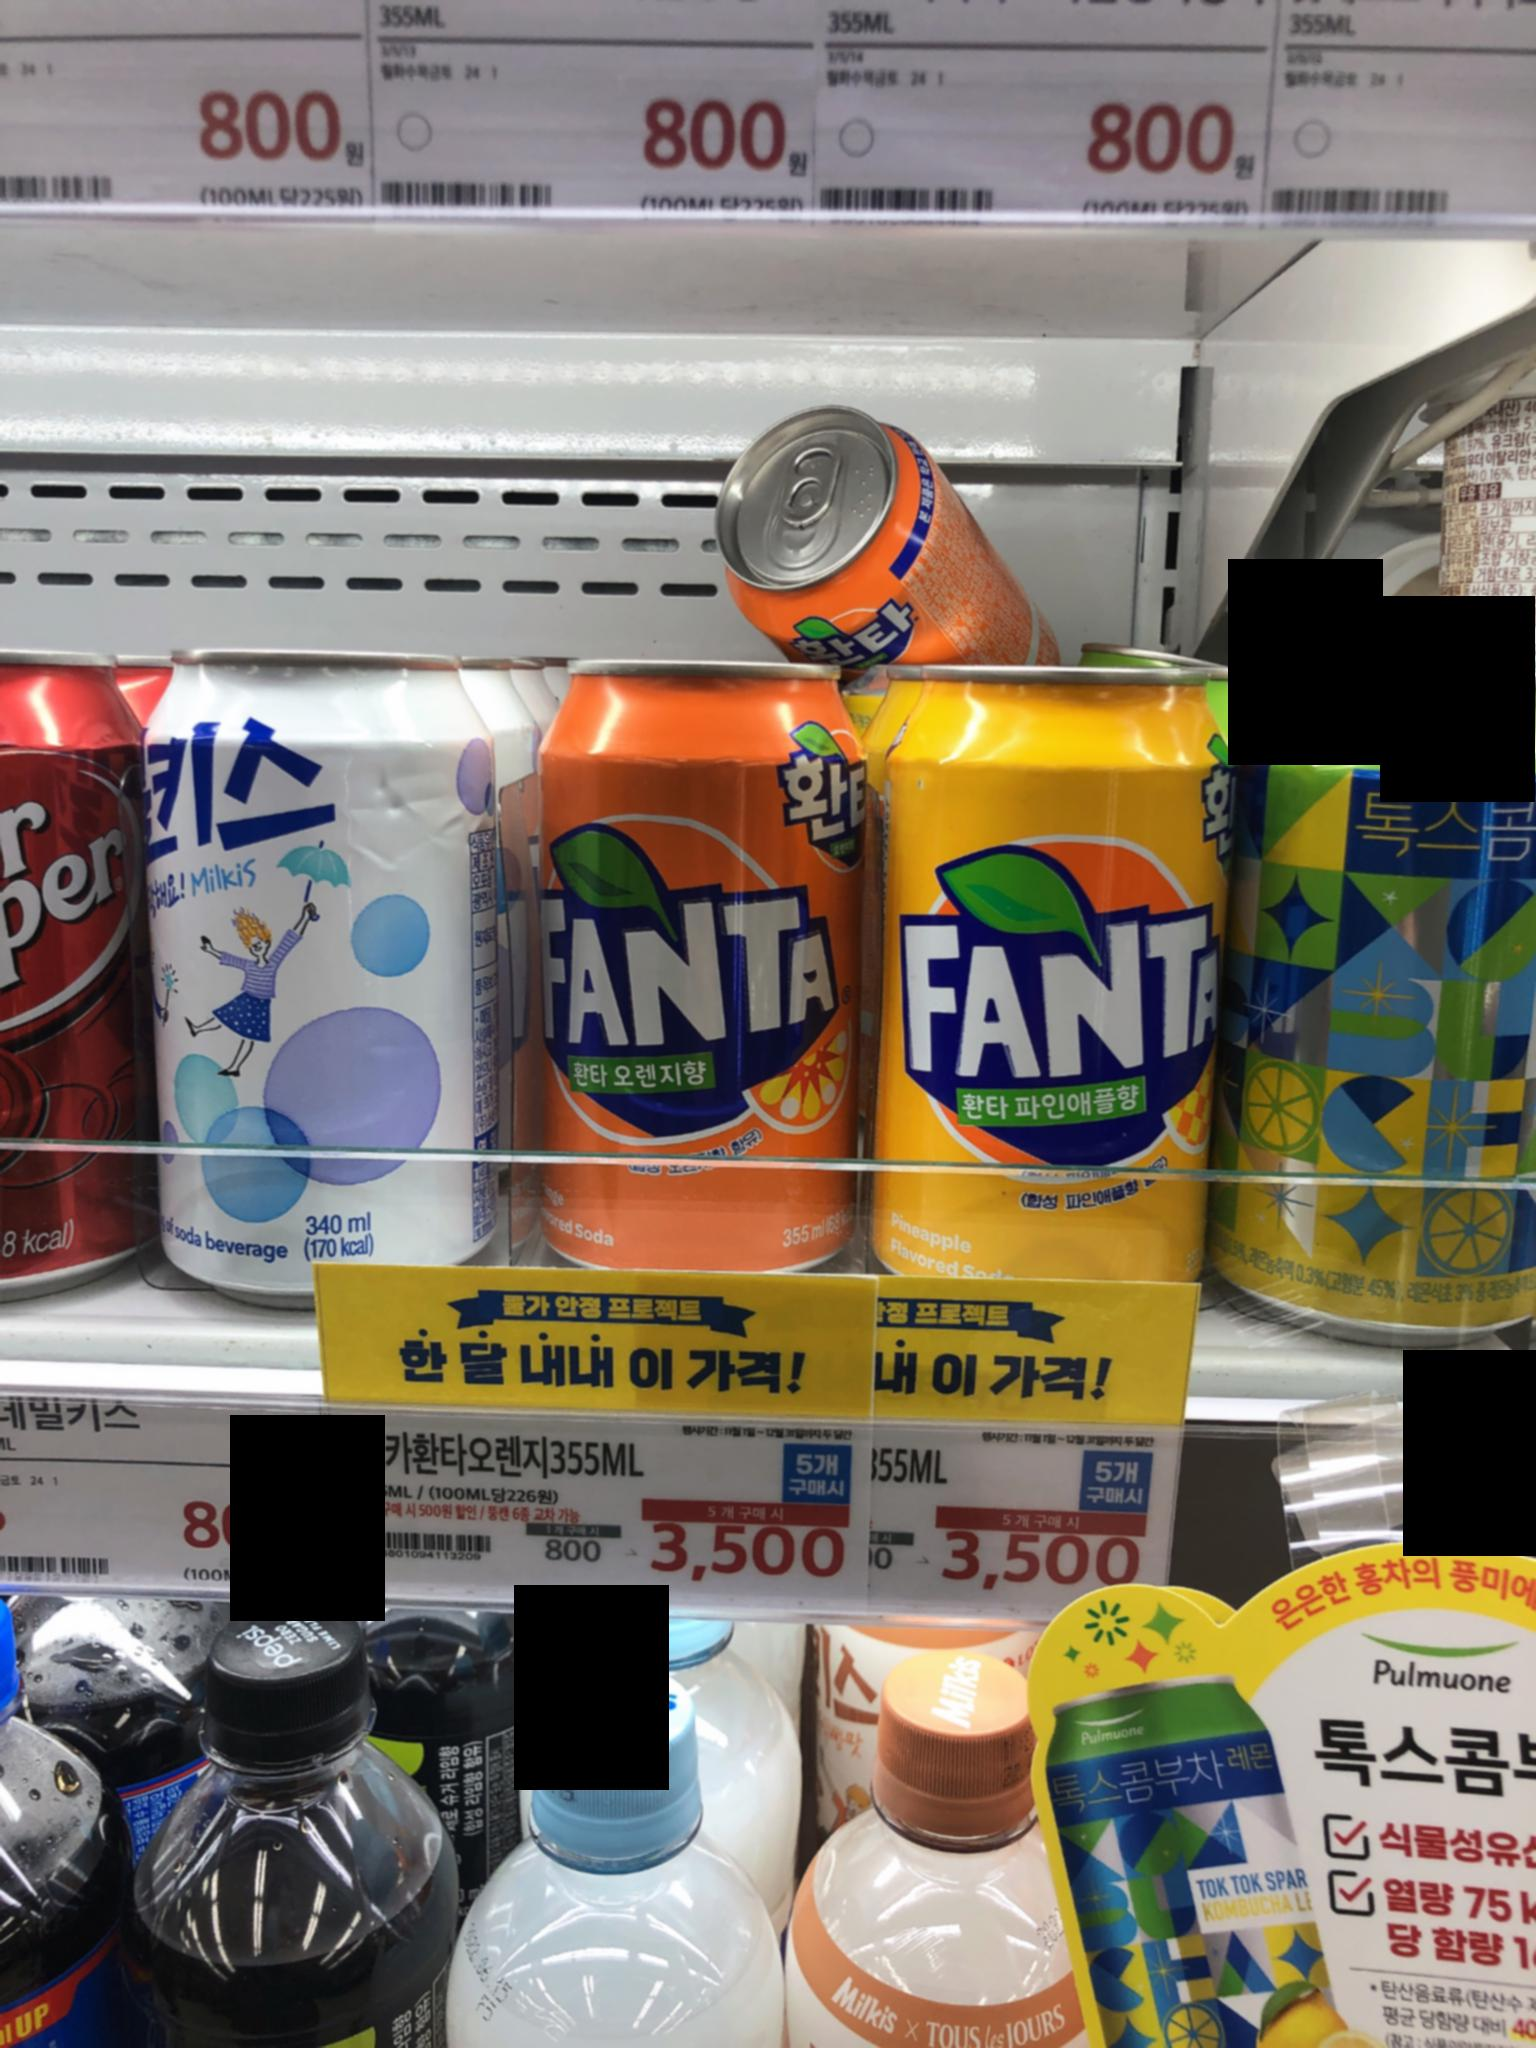fanta_orange: (542, 668, 870, 1293)
